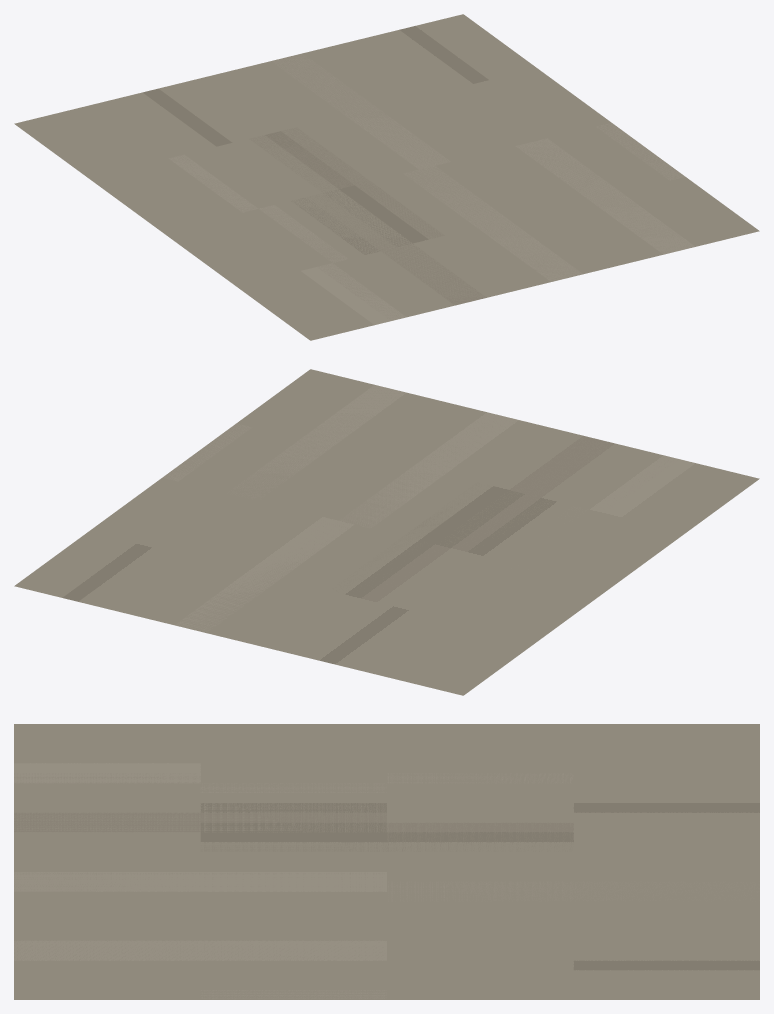
3 renders of one model, top to bottom at view 1: azimuth 30°, elevation 25°; view 2: azimuth 150°, elevation 25°; view 3: azimuth 270°, elevation 25°, orthographic. The views are drawn at different scales.
Bounding box in the file's own units: 0.875 × 0 × 1.
Materials: 1 (1 with a texture image).
